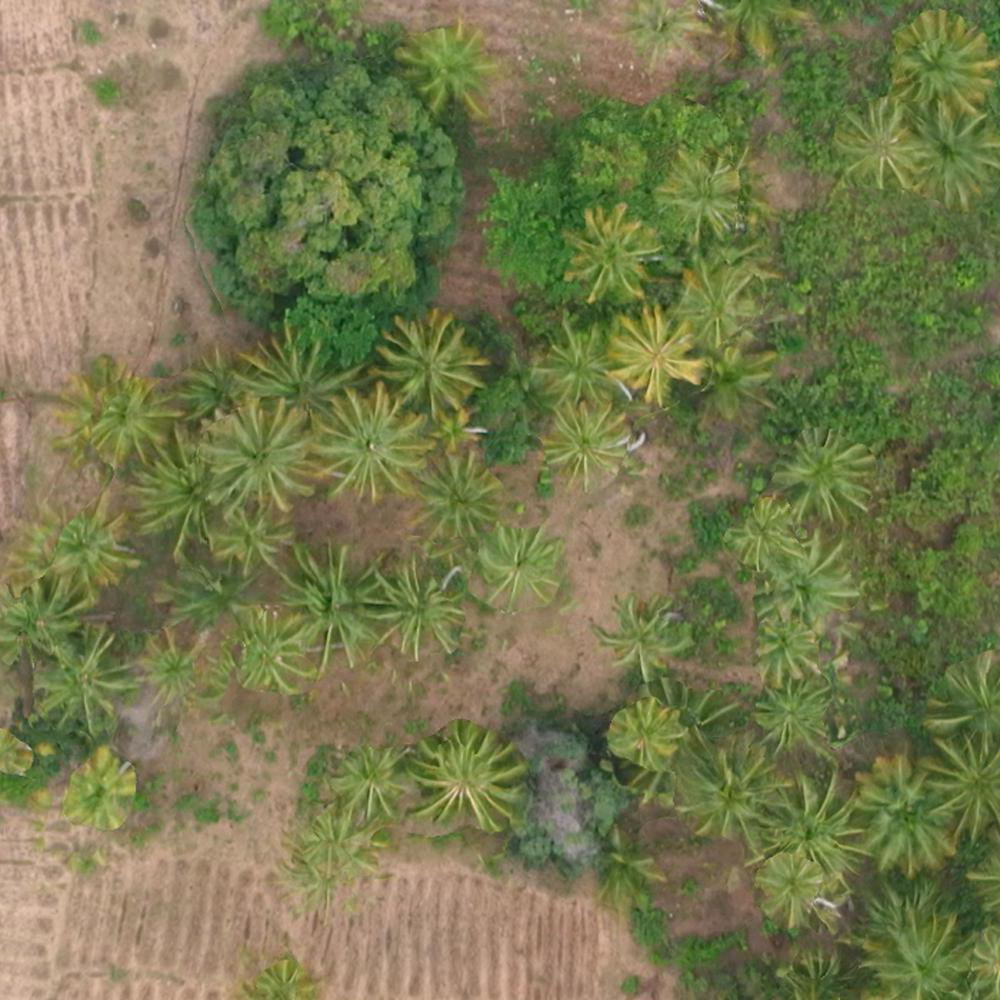Palm: (265, 541, 385, 665), (203, 400, 318, 509), (238, 328, 357, 432), (316, 386, 422, 499), (855, 757, 962, 867), (408, 722, 520, 822), (759, 773, 863, 879), (25, 625, 131, 727), (376, 312, 481, 412), (891, 8, 992, 109), (904, 97, 998, 205), (604, 305, 707, 402), (132, 441, 222, 551), (775, 424, 875, 521), (30, 500, 133, 593), (391, 22, 494, 114), (654, 144, 744, 243), (560, 207, 660, 295), (683, 745, 781, 834), (368, 563, 462, 654), (591, 590, 690, 676), (829, 97, 917, 193), (670, 258, 762, 349), (227, 605, 319, 693), (128, 623, 218, 712), (921, 736, 1000, 837), (870, 914, 968, 995), (82, 372, 171, 460), (163, 547, 261, 626), (765, 540, 857, 623), (536, 399, 628, 481), (1, 576, 96, 655), (411, 458, 500, 541), (204, 504, 300, 576), (752, 676, 836, 758), (473, 520, 557, 600), (694, 345, 784, 419), (534, 321, 617, 399), (613, 1, 702, 71), (604, 698, 683, 771), (178, 347, 258, 418), (330, 744, 409, 813), (64, 751, 134, 827), (751, 612, 825, 682), (729, 497, 801, 568), (754, 855, 829, 922), (296, 812, 367, 871), (425, 407, 486, 459)
